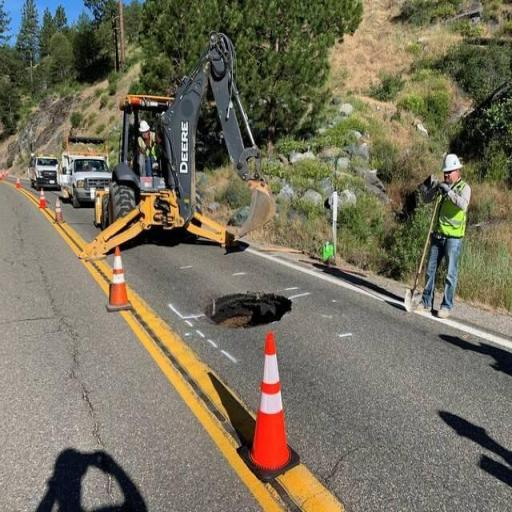Concentric_Crack: (206, 292, 292, 327)
